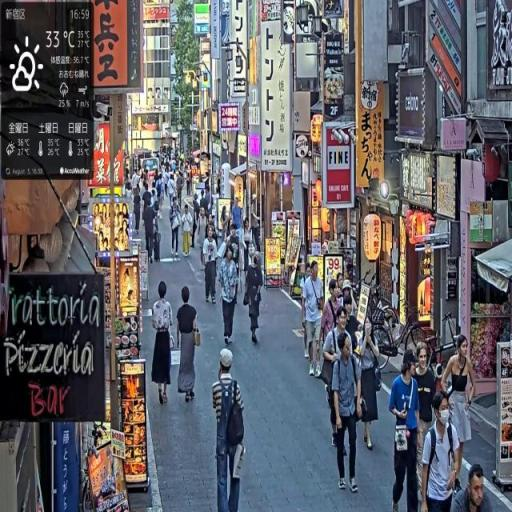person: (211, 346, 246, 512), (331, 331, 365, 498), (389, 350, 422, 511), (420, 390, 463, 512), (442, 335, 475, 491), (321, 302, 354, 451), (357, 323, 383, 454), (176, 285, 202, 404), (152, 281, 176, 406), (303, 261, 327, 380), (447, 463, 494, 512), (218, 245, 239, 347), (244, 253, 265, 348), (202, 223, 220, 305), (171, 197, 183, 259), (182, 202, 194, 259), (192, 189, 203, 245)
